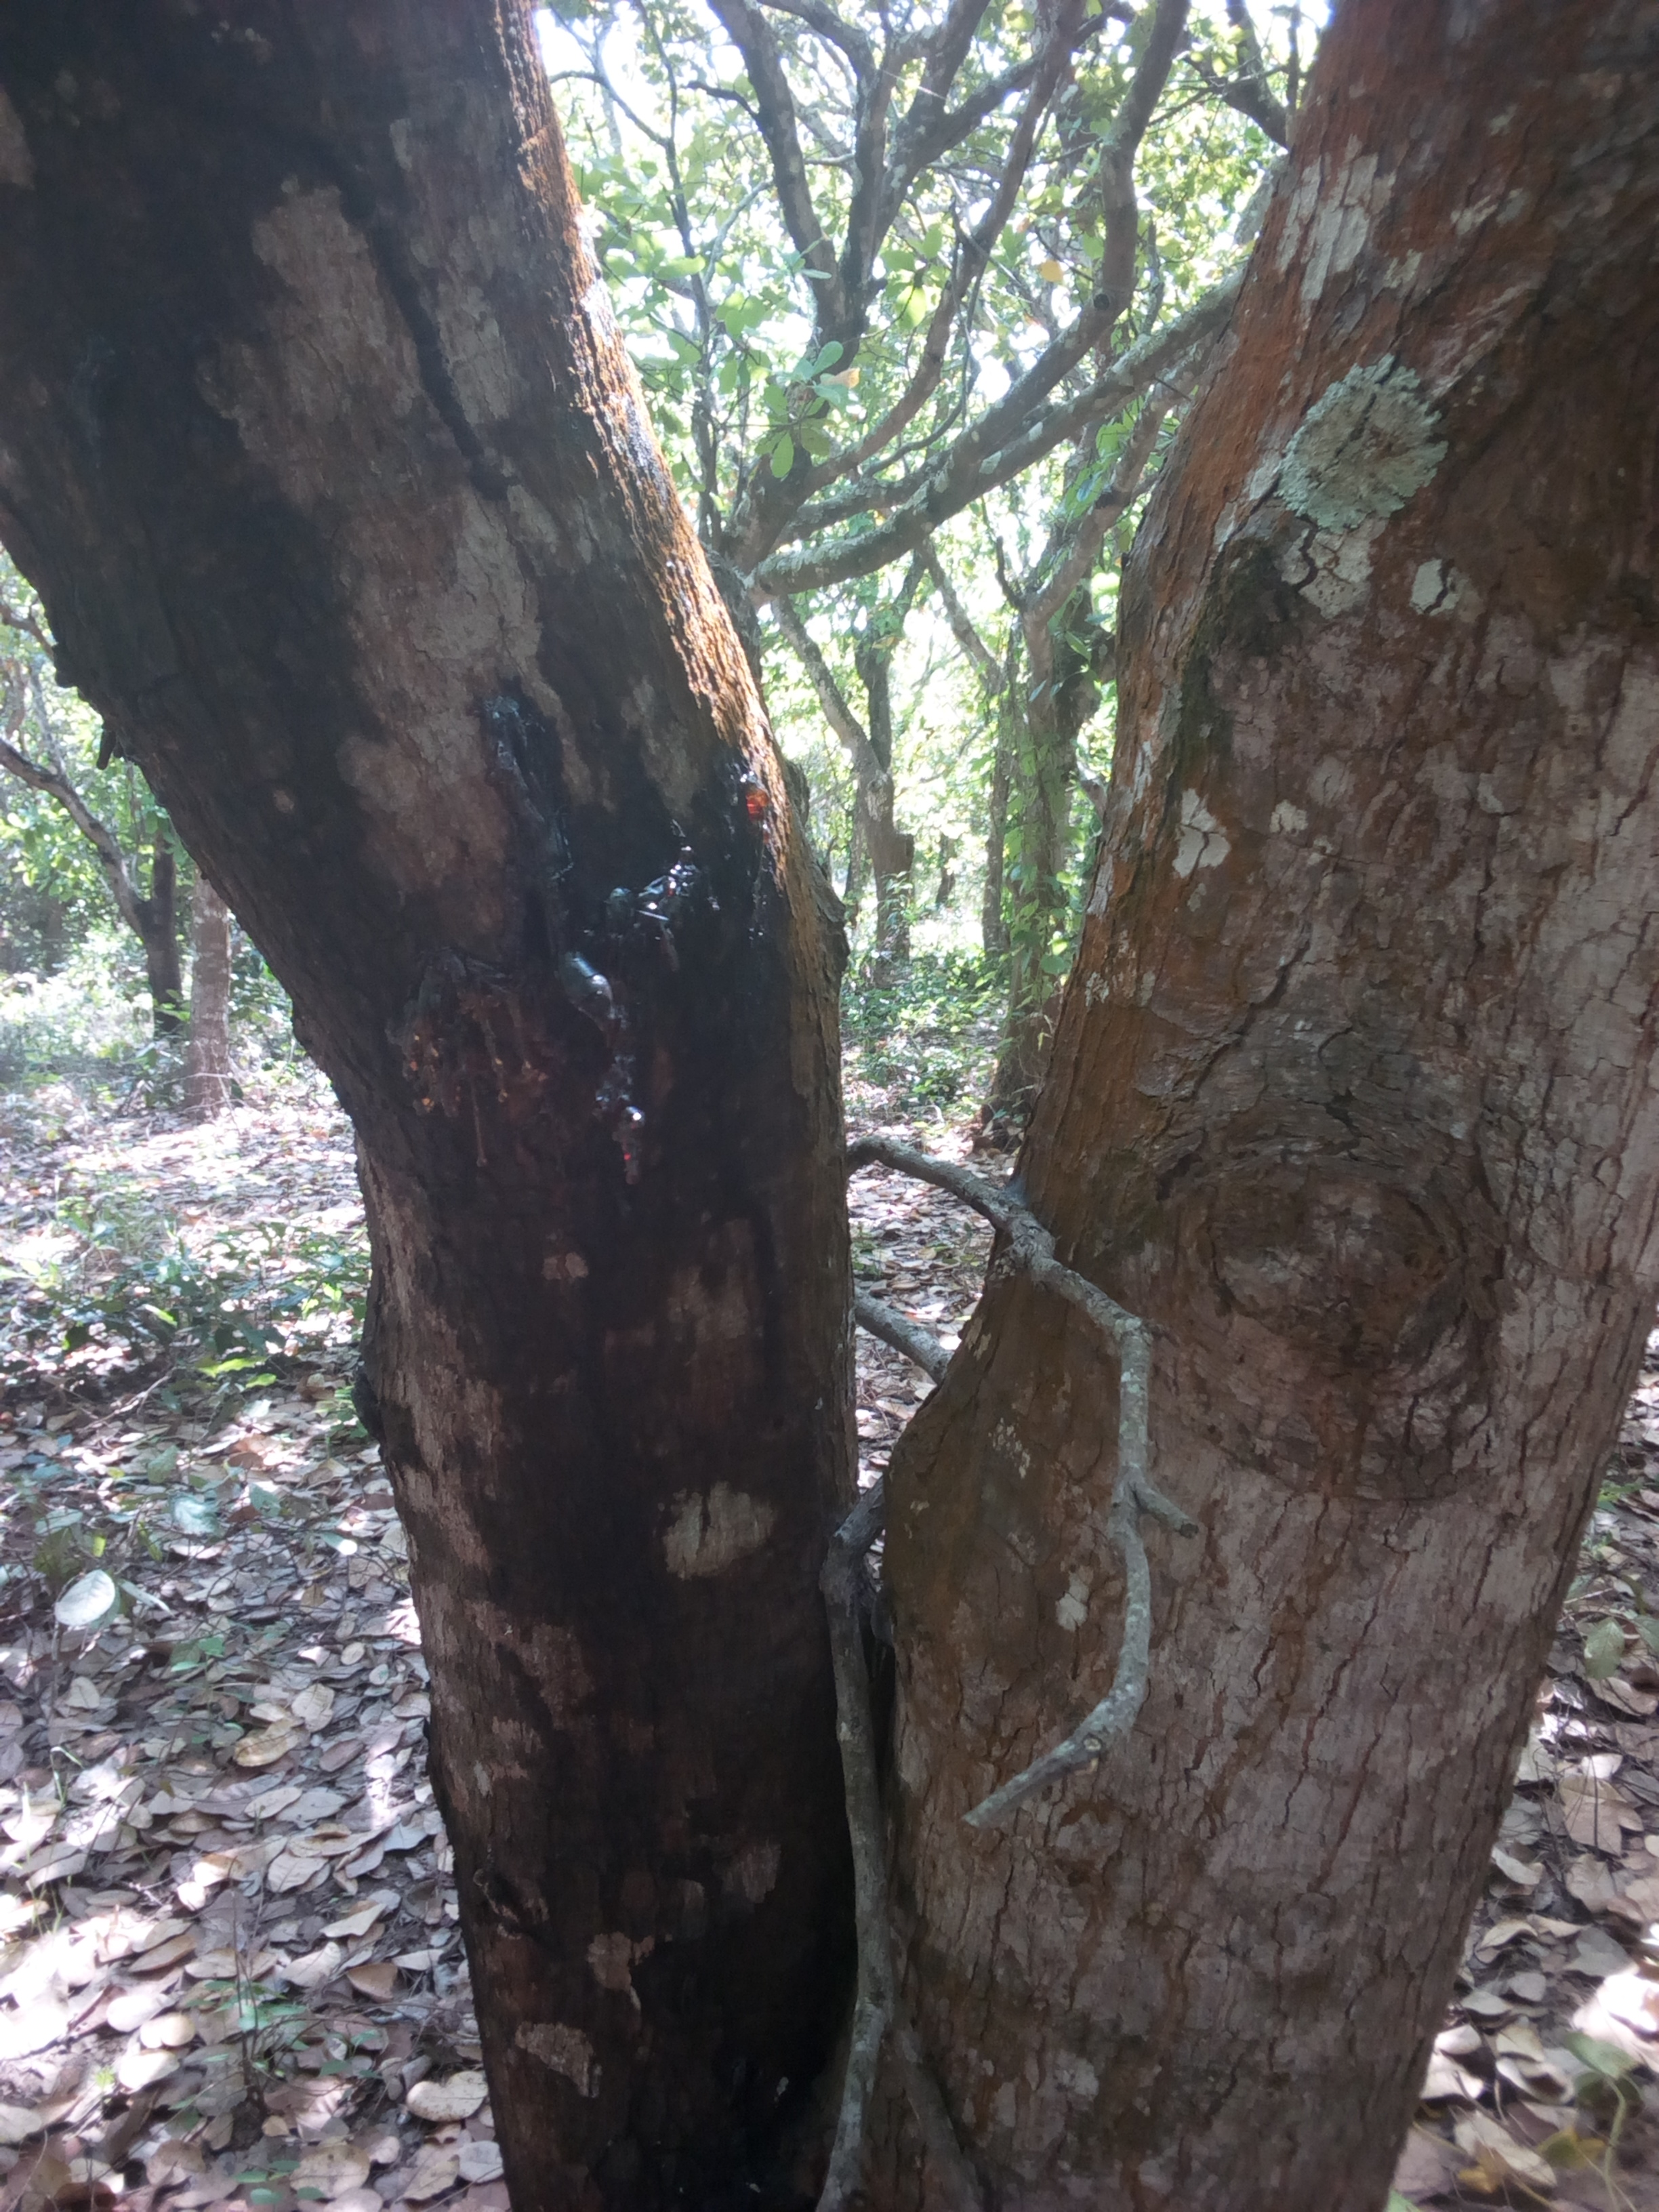Gommose: (457, 644, 816, 1278)
